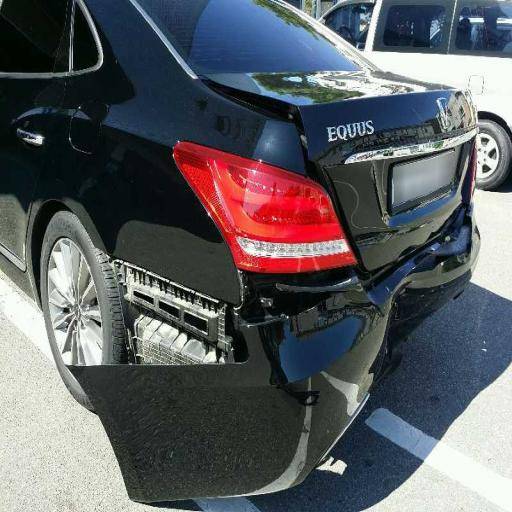broken: (63, 124, 372, 481)
